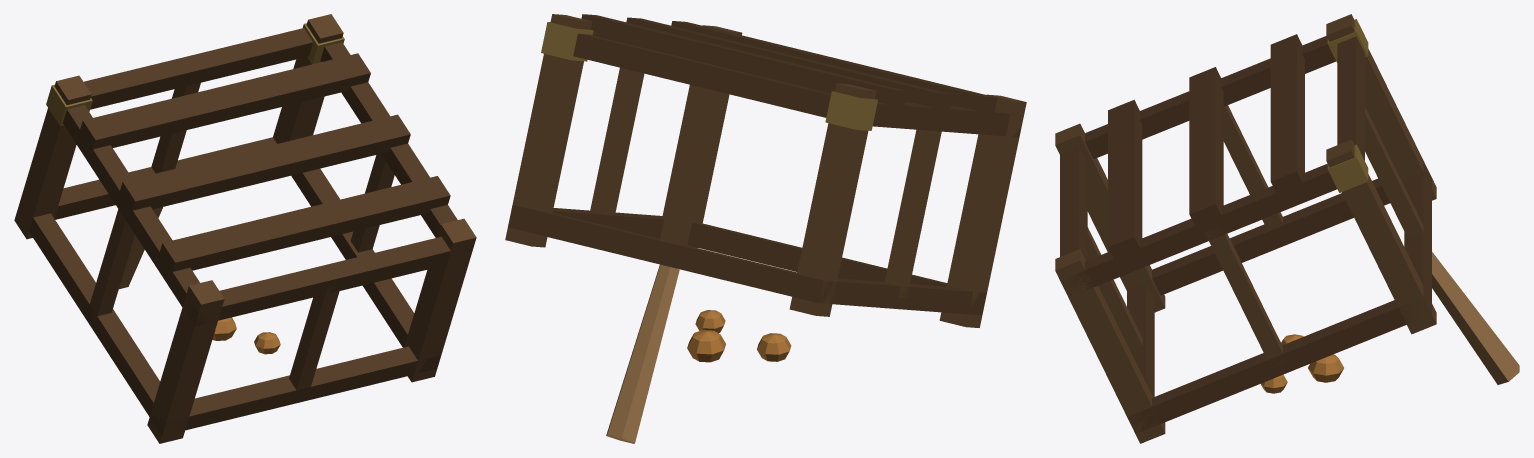
Rendered from Hunter_Box_Trap.glb.
3 renders of one model, left to right at view 1: azimuth 30°, elevation 25°; view 2: azimuth 150°, elevation 25°; view 3: azimuth 270°, elevation 25°, orthographic. The views are drawn at different scales.
Parts seen in each view (by area): view 1: Hunter_Box_Trap; view 2: Hunter_Box_Trap; view 3: Hunter_Box_Trap.
Boxes of the visible parts, x1,y1,x2,y2 form: Hunter_Box_Trap: (14, 14, 476, 443); Hunter_Box_Trap: (505, 14, 1026, 443); Hunter_Box_Trap: (1055, 14, 1519, 443).
Bounding box in the file's own units: 1.26 × 1.26 × 1.78.
